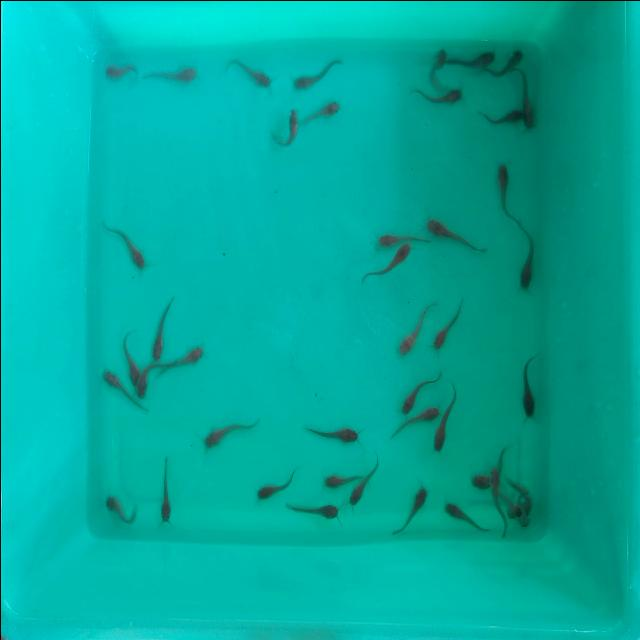lele: (428, 213, 488, 256), (104, 218, 150, 268), (392, 486, 432, 538), (429, 296, 466, 350), (248, 469, 299, 508), (344, 456, 380, 511), (200, 418, 258, 452), (396, 301, 429, 357), (155, 342, 207, 377), (442, 500, 492, 536), (290, 56, 340, 92), (518, 352, 542, 426), (146, 296, 176, 354), (364, 246, 412, 280), (516, 220, 538, 294), (233, 56, 276, 88), (138, 62, 198, 84), (101, 490, 138, 524), (411, 86, 464, 108), (388, 404, 440, 426), (279, 106, 305, 150), (299, 100, 339, 128), (421, 44, 449, 84), (103, 368, 127, 414), (157, 455, 173, 524), (308, 422, 358, 444), (286, 499, 342, 518), (119, 332, 138, 386), (494, 46, 526, 78), (377, 230, 433, 247), (490, 458, 502, 534), (449, 50, 493, 70), (522, 78, 538, 132), (478, 106, 524, 124), (400, 372, 420, 412), (104, 60, 140, 82), (517, 467, 534, 512), (497, 160, 509, 222), (324, 472, 362, 490), (136, 358, 154, 396), (464, 468, 489, 491), (433, 418, 446, 454), (502, 496, 516, 528), (520, 512, 534, 530)
